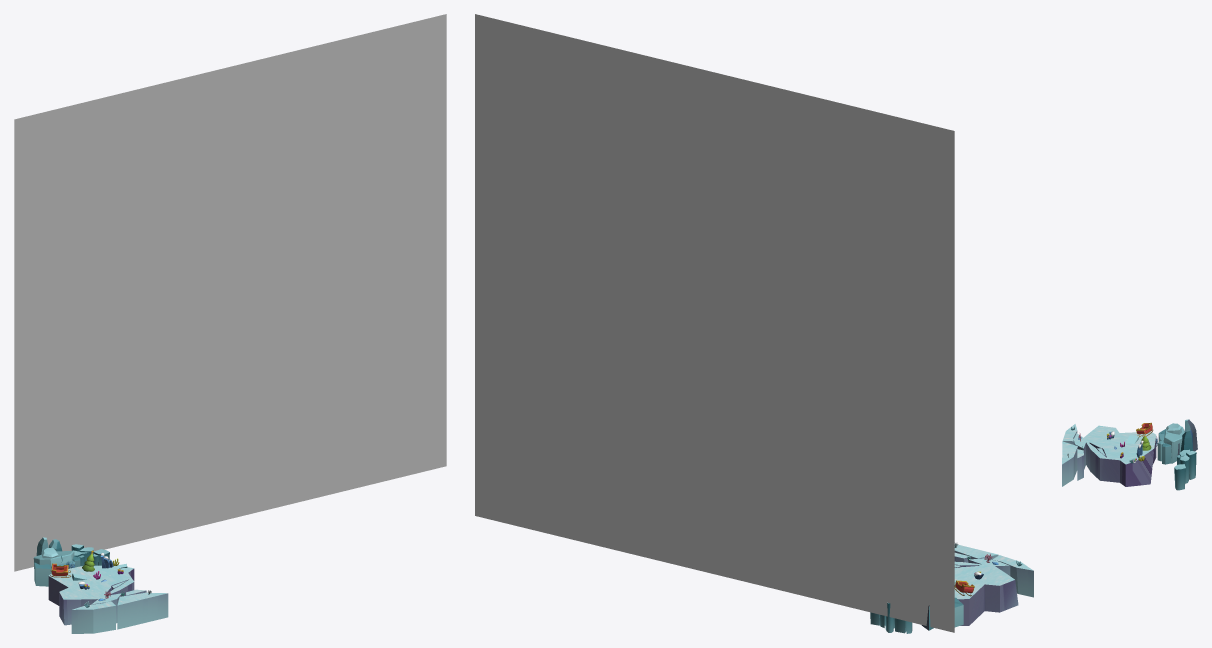
The model's file is Map_Snow Wonderland_Model.fbx.
The picture shows the model from 3 angles, left to right: view 1: azimuth 30°, elevation 25°; view 2: azimuth 150°, elevation 25°; view 3: azimuth 270°, elevation 25°; orthographic projection. The views are drawn at different scales.
Parts seen in each view (by area): view 1: back ground001, surface005, object006; view 2: back ground001, surface005, object006; view 3: surface005, object006.
Part boxes in pixels (x1,y1,x2,y2): back ground001: [14, 14, 446, 571]; surface005: [48, 565, 168, 633]; object006: [33, 537, 151, 607]; back ground001: [475, 14, 954, 632]; surface005: [954, 544, 1033, 625]; object006: [870, 543, 1022, 633]; surface005: [1062, 424, 1156, 486]; object006: [1067, 419, 1197, 490].
Bounding box in the file's own units: 10362 × 10565 × 2969.
